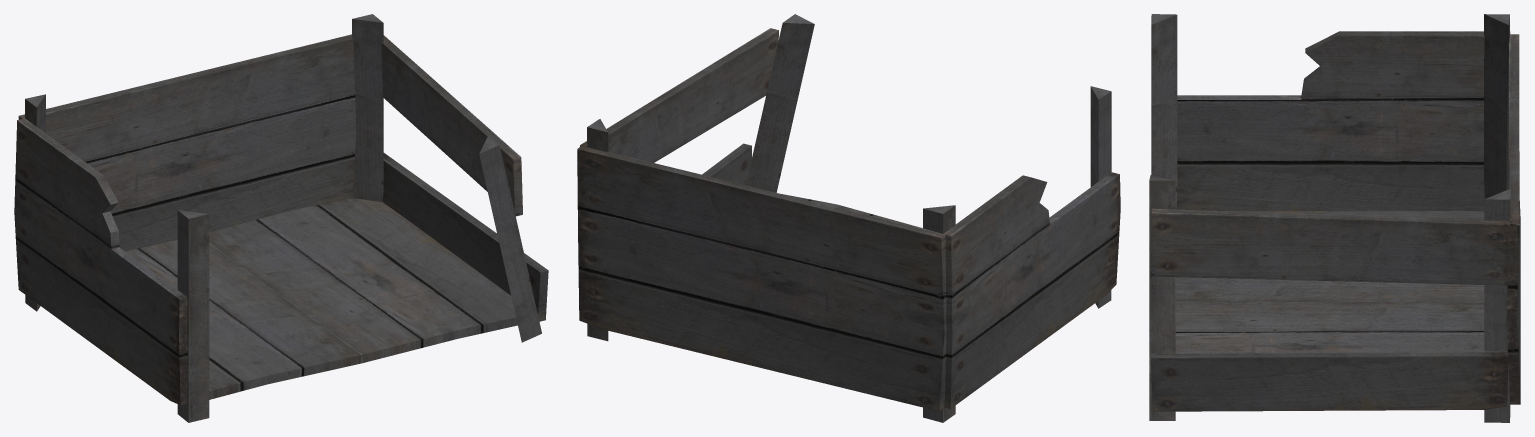
The model's file is Crate02damaged_LOD01.fbx.
The picture shows the model from 3 angles, left to right: view 1: azimuth 30°, elevation 25°; view 2: azimuth 150°, elevation 25°; view 3: azimuth 270°, elevation 25°; orthographic projection. The views are drawn at different scales.
Visible parts, largest first — view 1: Mesh Object; view 2: Mesh Object; view 3: Mesh Object.
Part boxes in pixels (bbox=[...]): Mesh Object: bbox=[14, 14, 548, 422]; Mesh Object: bbox=[577, 14, 1120, 422]; Mesh Object: bbox=[1149, 14, 1520, 422].
Bounding box in the file's own units: 0.6422 × 0.3405 × 0.5117.
